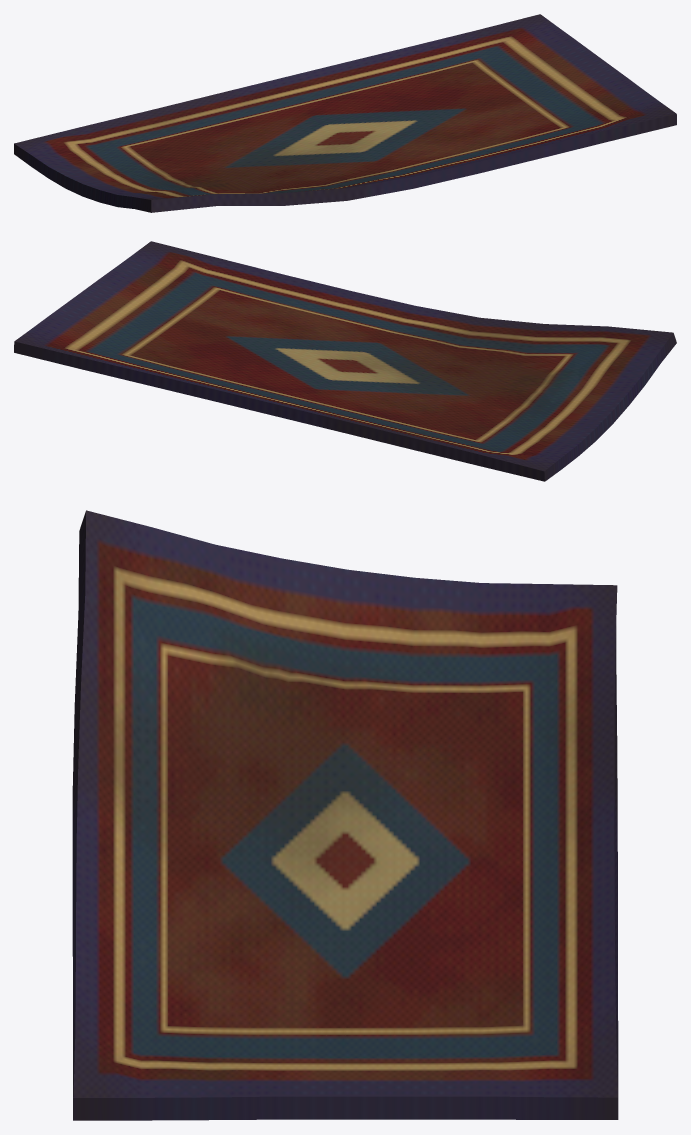
File: RoomRug.fbx
The picture shows the model from 3 angles, top to bottom: view 1: azimuth 30°, elevation 25°; view 2: azimuth 150°, elevation 25°; view 3: azimuth 270°, elevation 25°; orthographic projection. The views are drawn at different scales.
Visible parts, largest first — view 1: RoomRug; view 2: RoomRug; view 3: RoomRug.
Boxes of the visible parts, x1=… form: RoomRug: x1=14, y1=14, x2=676, y2=212; RoomRug: x1=14, y1=241, x2=676, y2=481; RoomRug: x1=72, y1=510, x2=618, y2=1120.
Bounding box in the file's own units: 0.864 × 0.0788 × 0.3874.
Materials: 1 (1 with a texture image).
